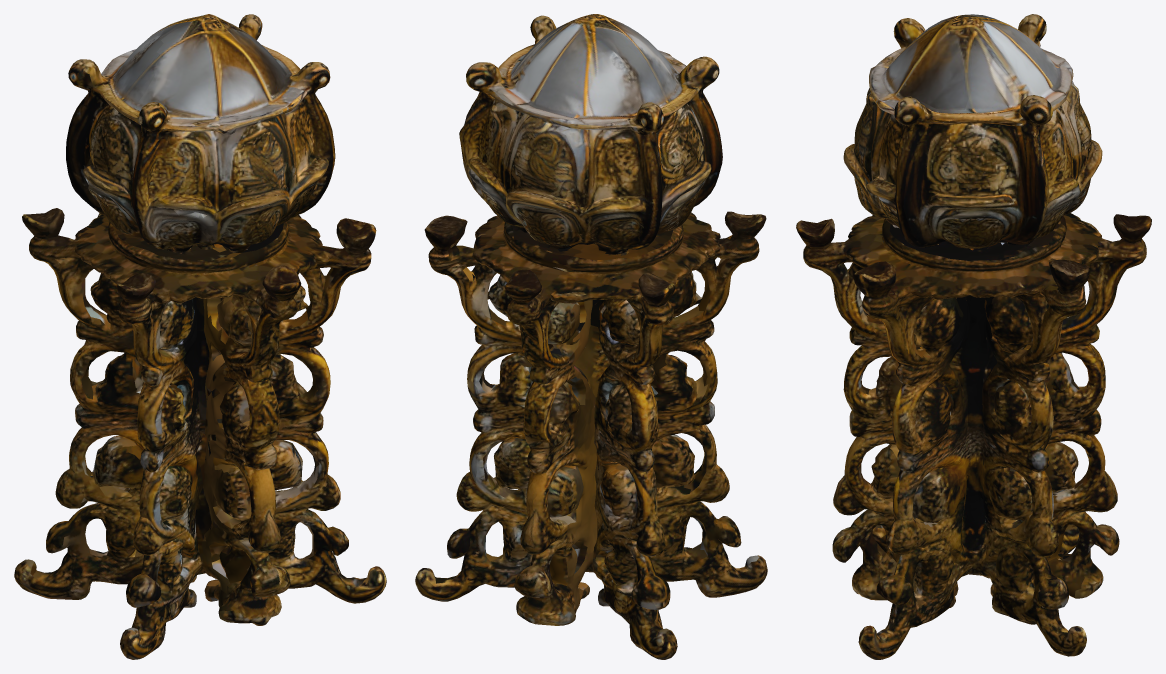
3 views of the same model, side by side, from view 1: azimuth 30°, elevation 25°; view 2: azimuth 150°, elevation 25°; view 3: azimuth 270°, elevation 25° (orthographic). The views are drawn at different scales.
Visible parts, largest first — view 1: textured_mesh; view 2: textured_mesh; view 3: textured_mesh.
Part boxes in pixels (<box>): textured_mesh: <box>14,14,386,659</box>; textured_mesh: <box>415,14,767,659</box>; textured_mesh: <box>796,14,1151,659</box>.
Size of the model in its own units: 0.9534 by 1.99 by 1.08.
1 material, 1 textured.
